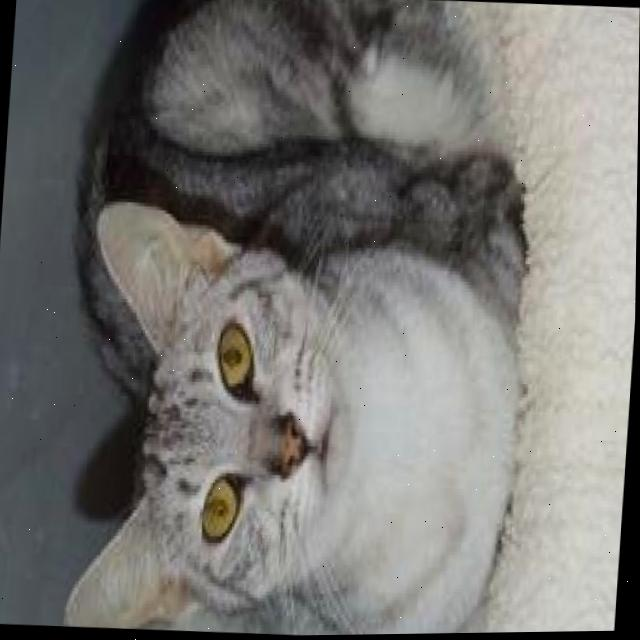Egyptian Mau: (36, 0, 552, 639)
